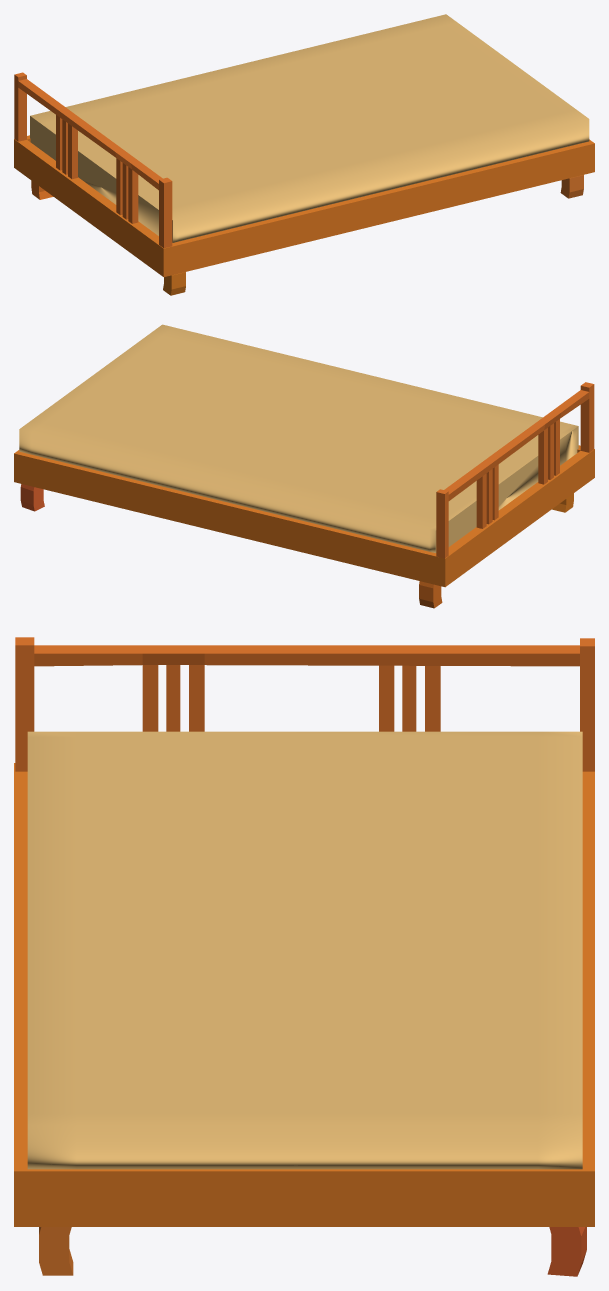
The model's file is bed4AR.glb.
3 renders of one model, top to bottom at view 1: azimuth 30°, elevation 25°; view 2: azimuth 150°, elevation 25°; view 3: azimuth 270°, elevation 25°, orthographic. The views are drawn at different scales.
Parts seen in each view (by area): view 1: Cube.007, Cube.001, Cube.006, Cube.002, Cube.003; view 2: Cube.007, Cube.001, Cube.006, Cube.004, Cube.005; view 3: Cube.007, Cube.001, Cube.006, Cube.004, Cube.002.
Boxes of the visible parts, x1,y1,x2,y2 form: Cube.007: [30, 14, 589, 242]; Cube.001: [14, 135, 594, 276]; Cube.006: [14, 72, 172, 248]; Cube.002: [560, 175, 583, 198]; Cube.003: [163, 272, 185, 295]; Cube.007: [19, 324, 578, 552]; Cube.001: [14, 445, 594, 587]; Cube.006: [436, 382, 594, 558]; Cube.004: [20, 484, 44, 511]; Cube.005: [419, 581, 442, 608]; Cube.007: [27, 731, 582, 1169]; Cube.001: [14, 763, 594, 1226]; Cube.006: [15, 637, 594, 771]; Cube.004: [547, 1227, 586, 1276]; Cube.002: [39, 1227, 73, 1275].
Size of the model in its own units: 5.66 by 1.52 by 3.4.
